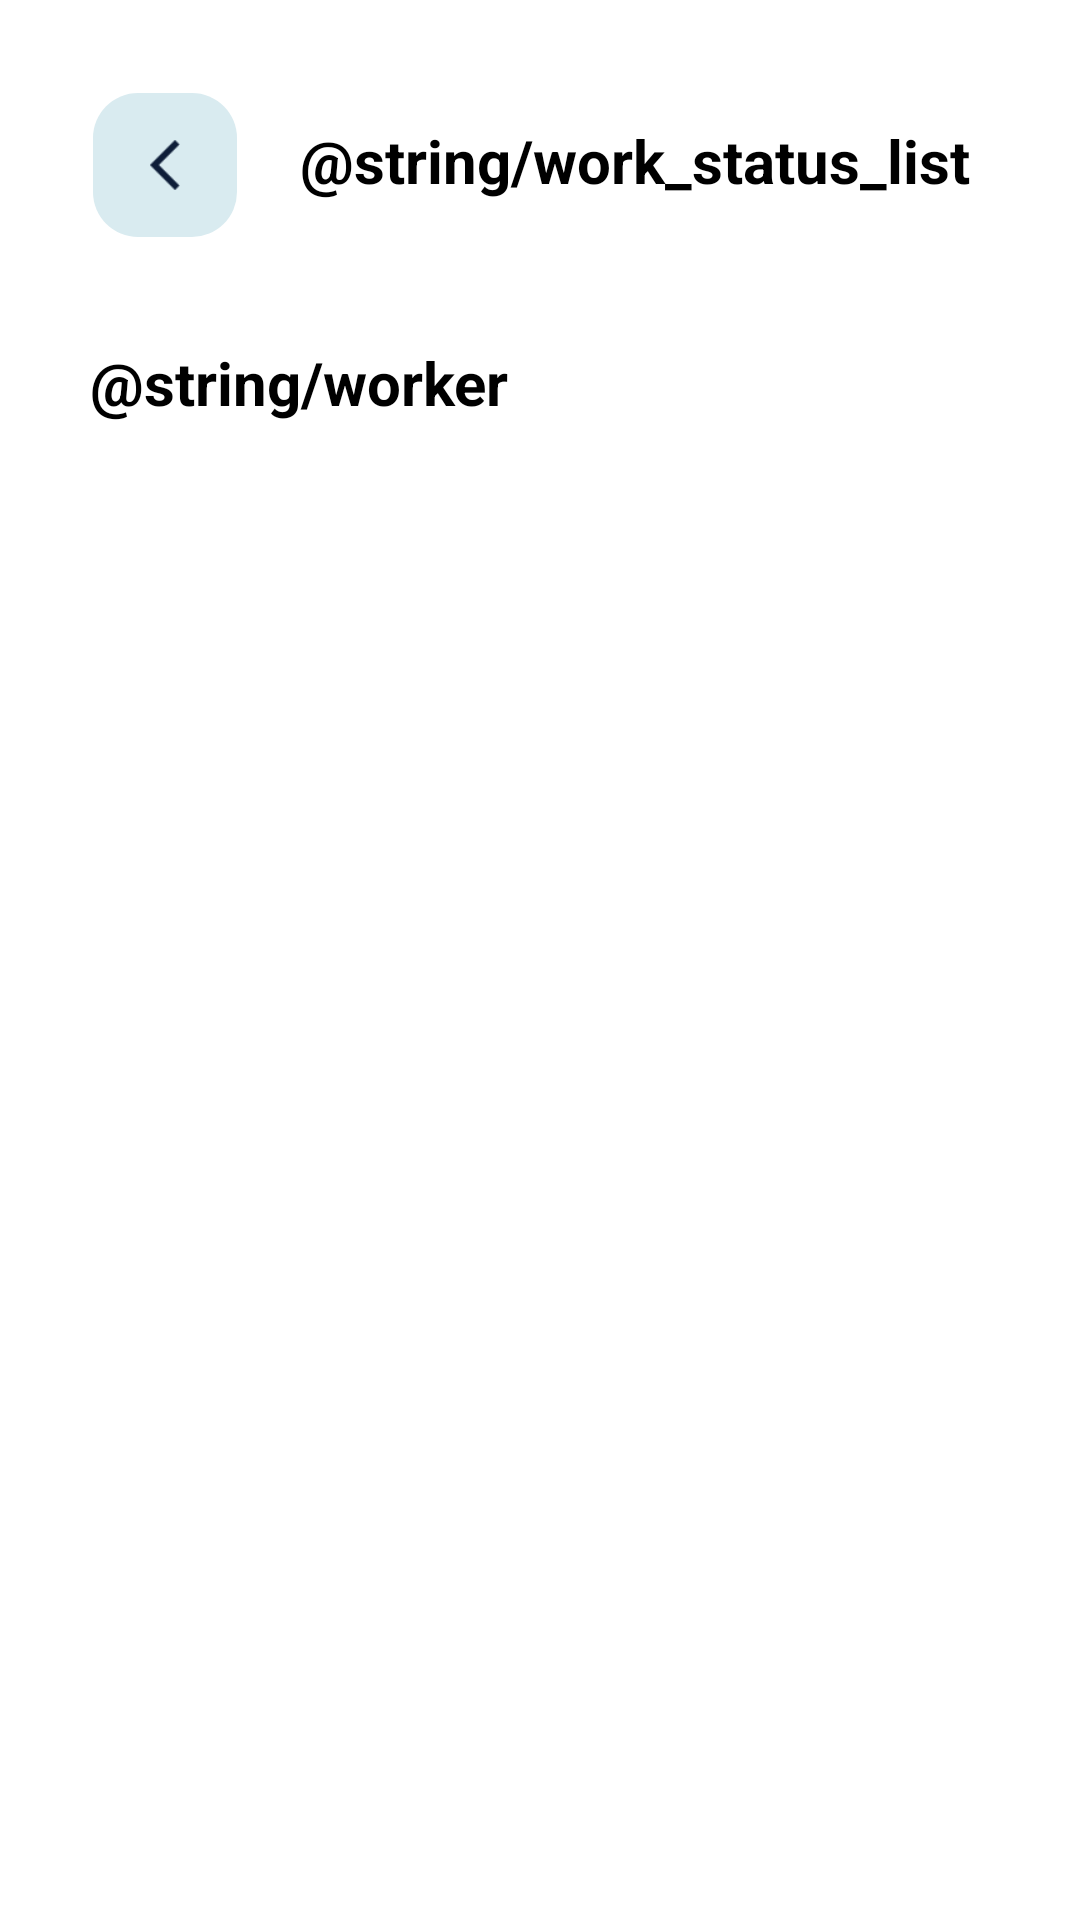

Screen size 1080 × 1920. Icon name, then its box in pixels as (x1, y1, x2, y2):
back arrow: (93, 93, 237, 237)
